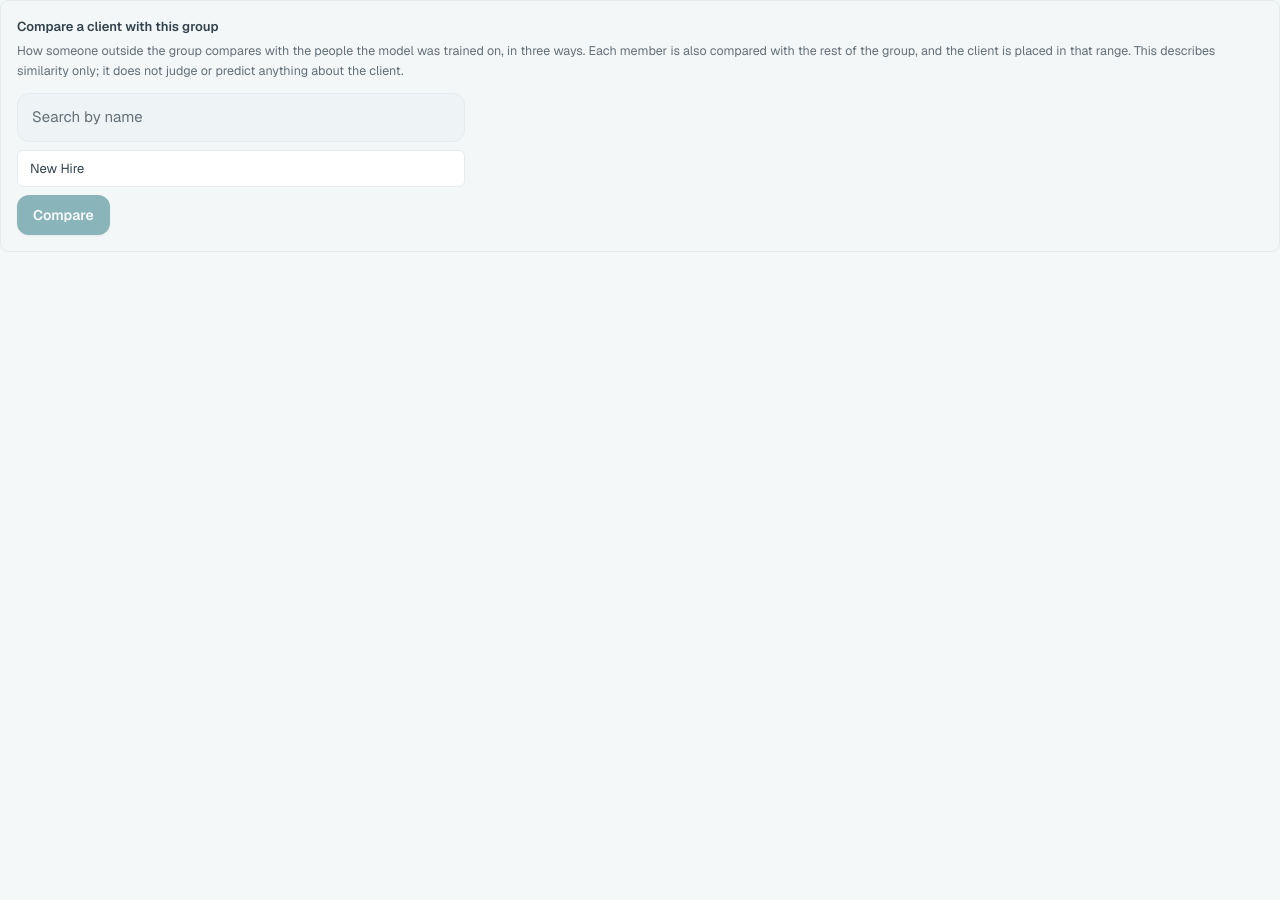
it: MlGroupFit › offers only clients the model was not trained on, and shows all three results
Expected: the option "Rashid" is not shown
Click the option "New Hire": (57, 168) [18,151,464,186]
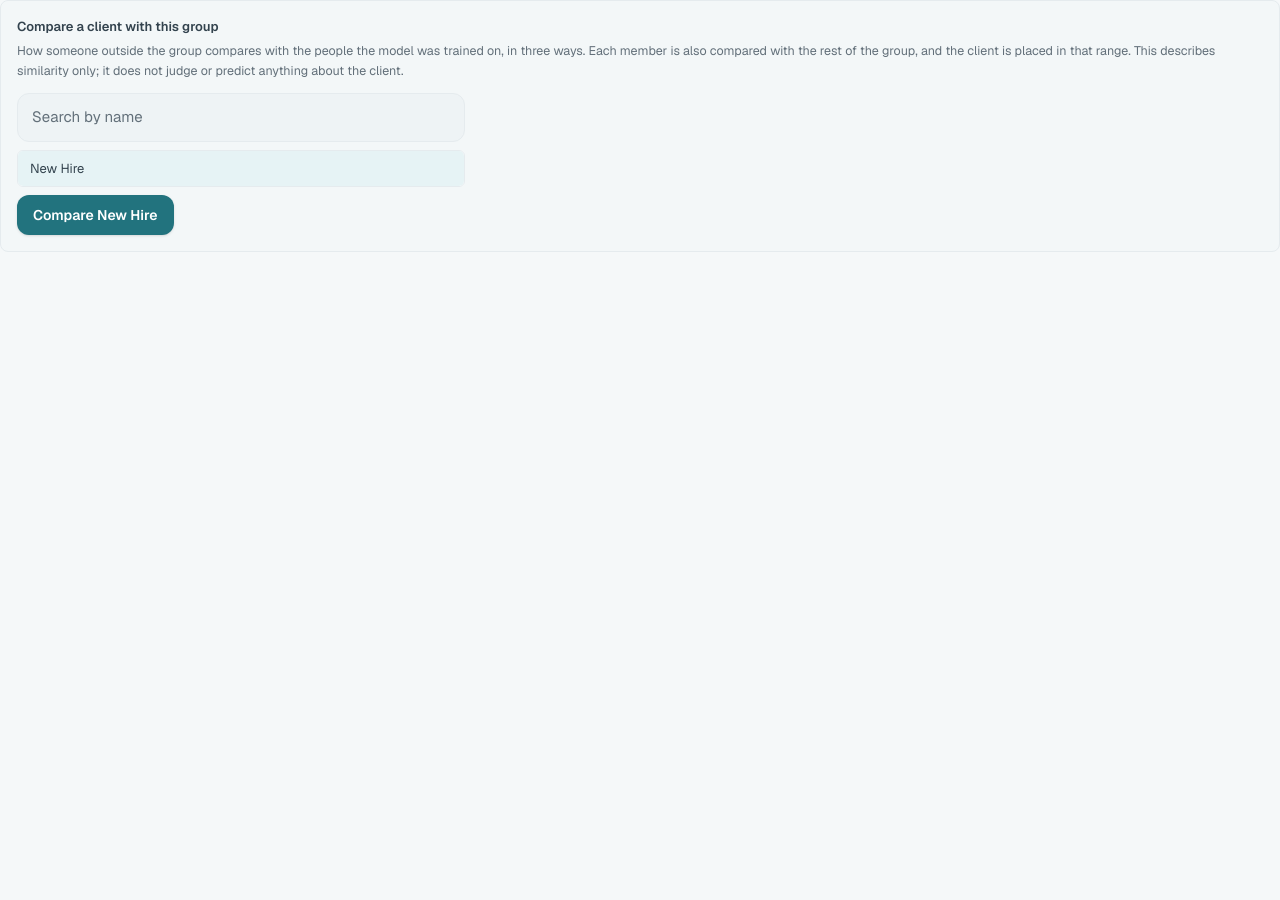
Click the button "Compare New Hire": (95, 215) [17,195,174,235]
(page scrolled)
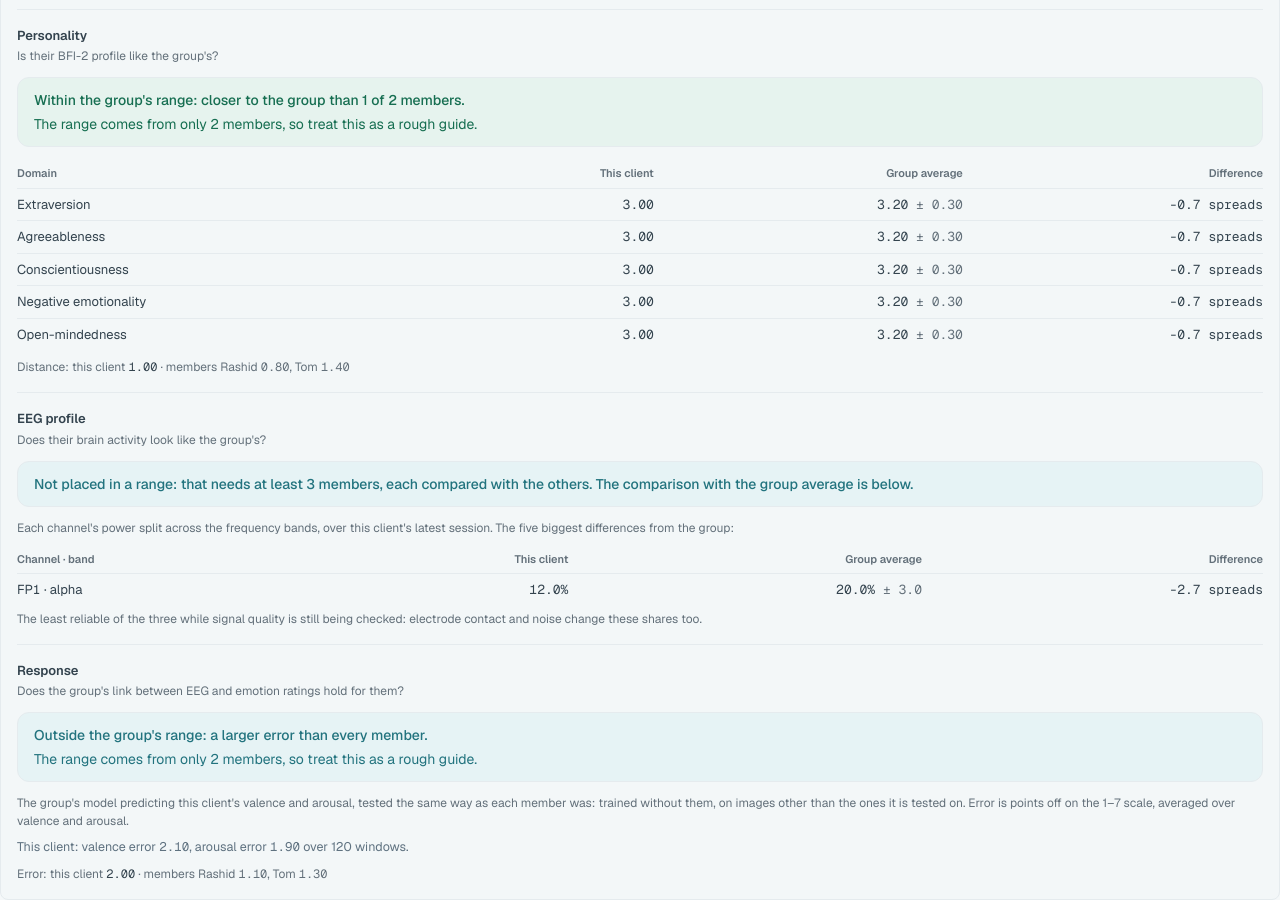
Result: the text "Within the group's range: closer to the group than 1 of 2 members" is shown at [34,91,465,109]
Result: the text "Negative emotionality" is shown at [17,286,458,318]
Result: the text "Not placed in a range: that needs at least 3 members" is shown at [34,475,913,493]
